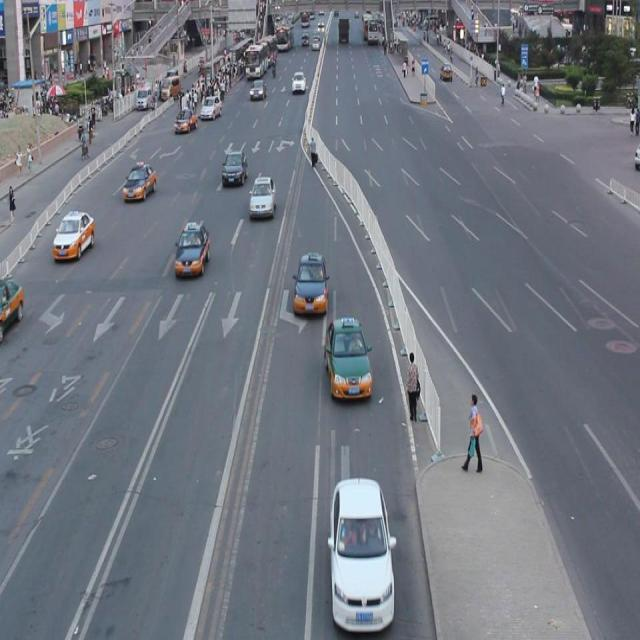car: (327, 474, 394, 640), (323, 314, 372, 402), (292, 251, 328, 316), (52, 209, 95, 262), (173, 222, 211, 276), (1, 276, 26, 337), (122, 162, 158, 203), (248, 174, 276, 218), (221, 149, 248, 188)
